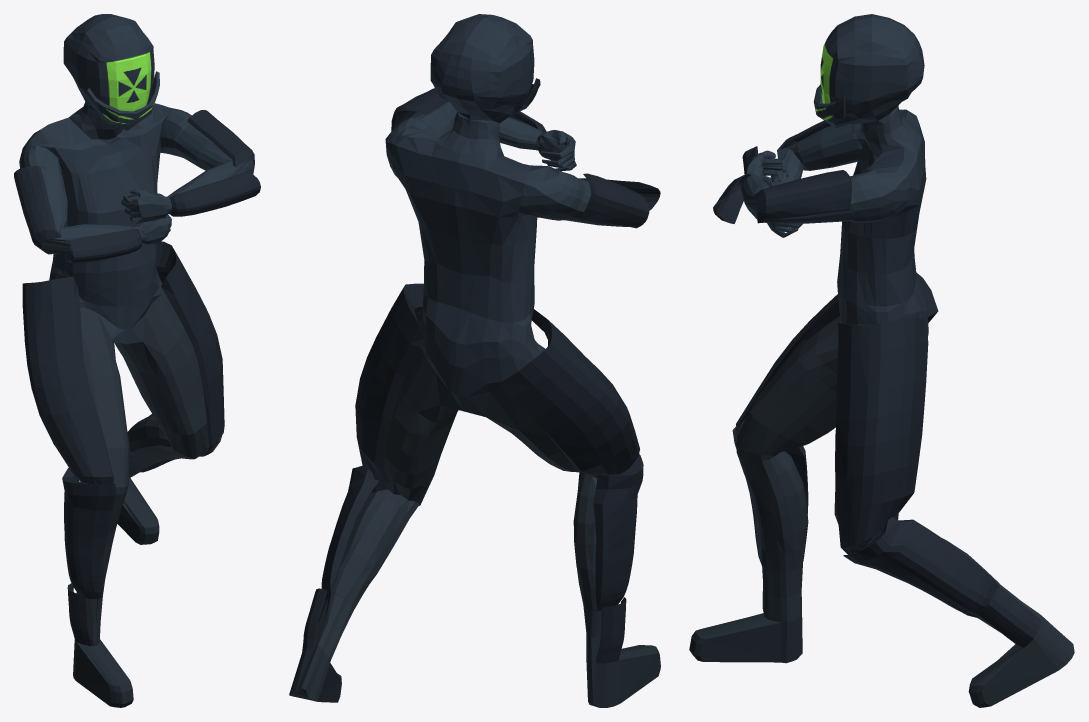
File: Bastion_WB_000023.obj
3 views of the same model, side by side, from view 1: azimuth 30°, elevation 25°; view 2: azimuth 150°, elevation 25°; view 3: azimuth 270°, elevation 25° (orthographic). The views are drawn at different scales.
Parts seen in each view (by area): view 1: Cube.002; view 2: Cube.002; view 3: Cube.002.
Boxes of the visible parts, x1,y1,x2,y2 form: Cube.002: [14, 14, 260, 707]; Cube.002: [289, 14, 660, 707]; Cube.002: [689, 14, 1074, 707].
Bounding box in the file's own units: 1.4 × 3.64 × 1.88.
